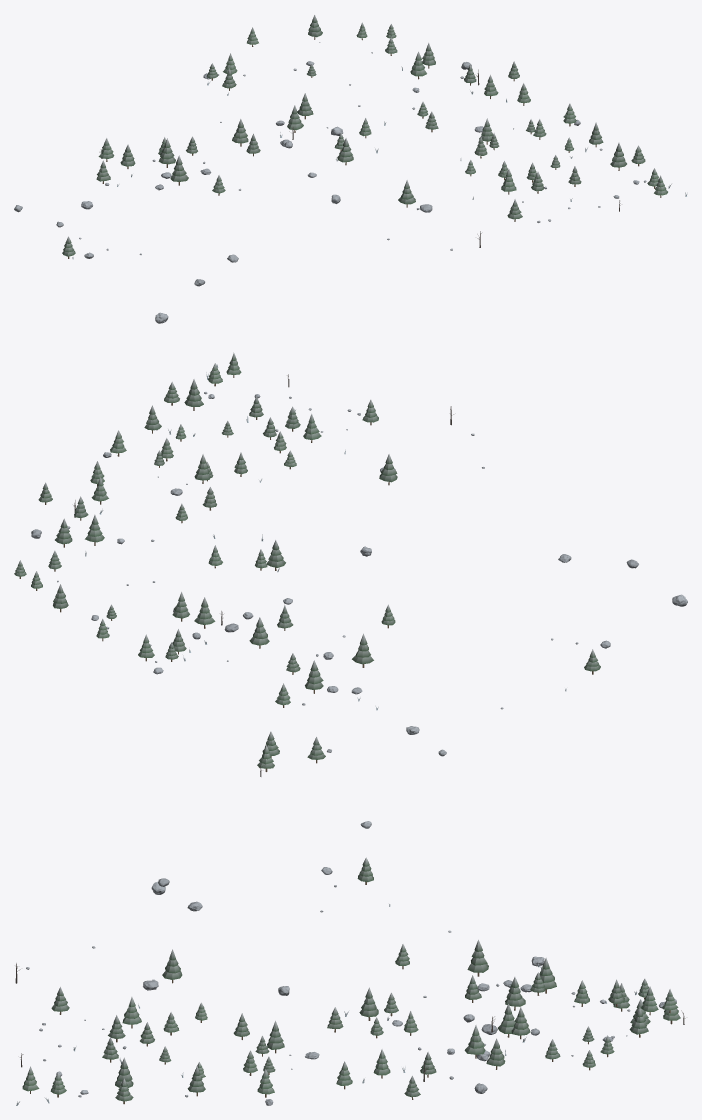
File: frost_land_scatter_c13_09.glb
The picture shows the model from 3 angles, top to bottom: view 1: azimuth 30°, elevation 25°; view 2: azimuth 150°, elevation 25°; view 3: azimuth 270°, elevation 25°; orthographic projection. The views are drawn at different scales.
Parts seen in each view (by area): view 1: frost_land_scatter_c13_09; view 2: frost_land_scatter_c13_09; view 3: frost_land_scatter_c13_09.
Part boxes in pixels (box(x1,y1,x2,y2)): frost_land_scatter_c13_09: box(14, 15, 687, 323); frost_land_scatter_c13_09: box(14, 352, 687, 828); frost_land_scatter_c13_09: box(15, 857, 685, 1105).
Size of the model in its own units: 257 by 71.99 by 255.
